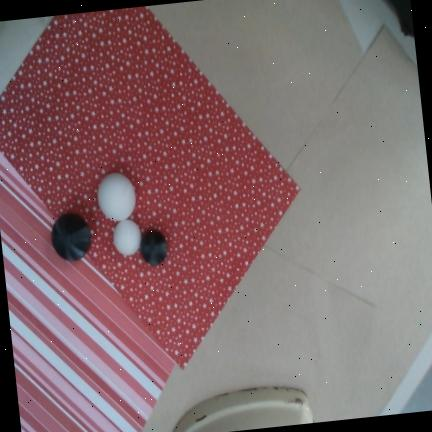Esfera: (51, 212, 92, 261), (98, 173, 136, 221), (114, 219, 141, 255), (141, 230, 168, 265)
